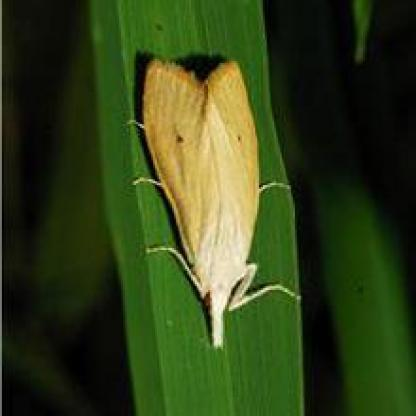stem-borer: (126, 53, 303, 348)
